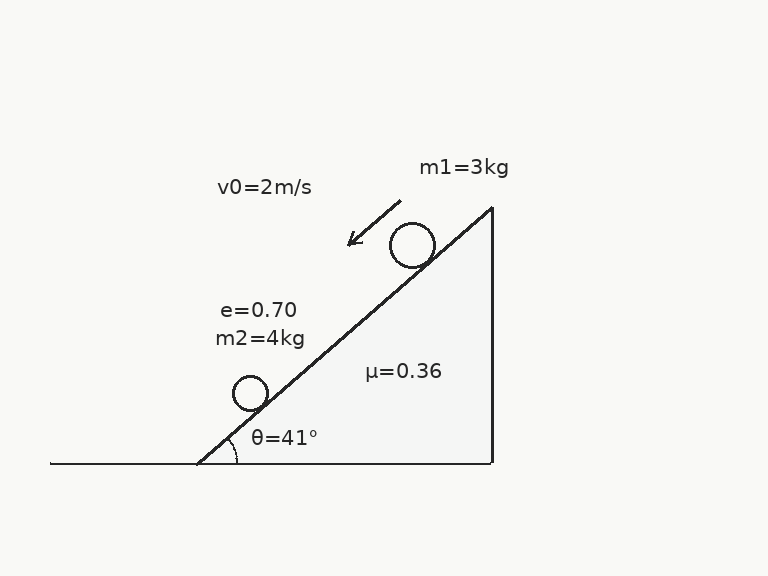ball: (387, 220, 437, 270), (230, 373, 270, 413)
ramp: (195, 205, 493, 465)
